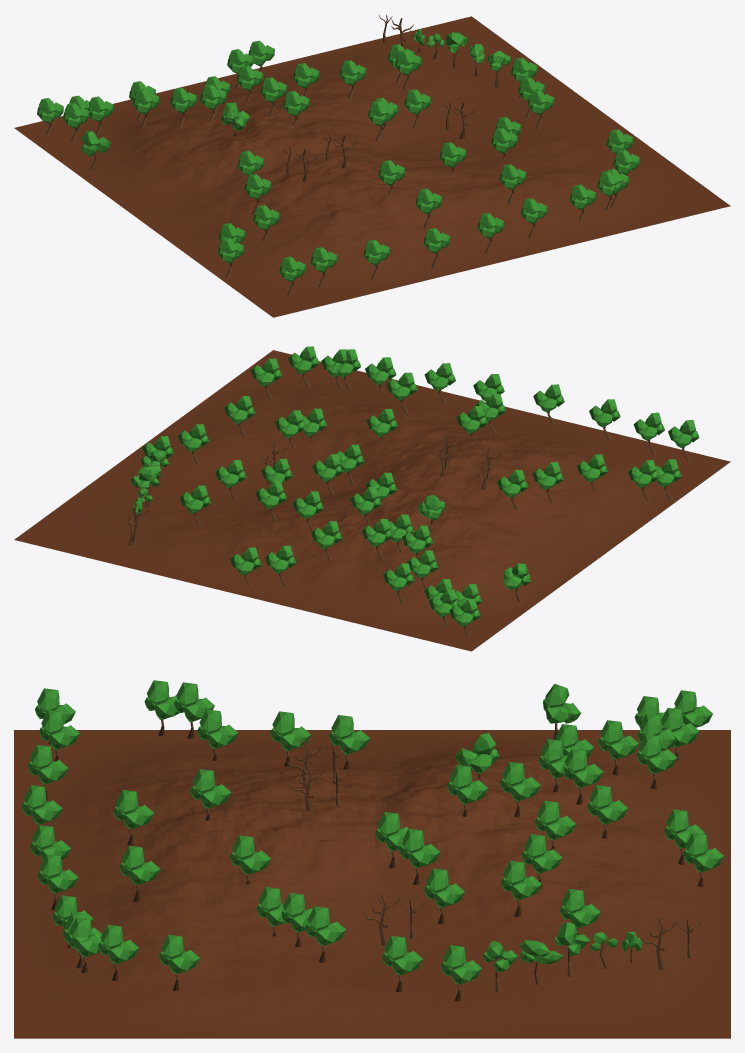
Rendered from my_terrain.gltf.
3 views of the same model, one above another, from view 1: azimuth 30°, elevation 25°; view 2: azimuth 150°, elevation 25°; view 3: azimuth 270°, elevation 25° (orthographic). The views are drawn at different scales.
Visible parts, largest first — view 1: Tree_3.026; view 2: Tree_3.026; view 3: Tree_3.026.
Boxes of the visible parts, box(x1,y1,x2,y2) form: Tree_3.026: box(14, 14, 730, 317); Tree_3.026: box(14, 346, 730, 651); Tree_3.026: box(14, 680, 730, 1038).
Bounding box in the file's own units: 8.65 × 1.2 × 8.48.
